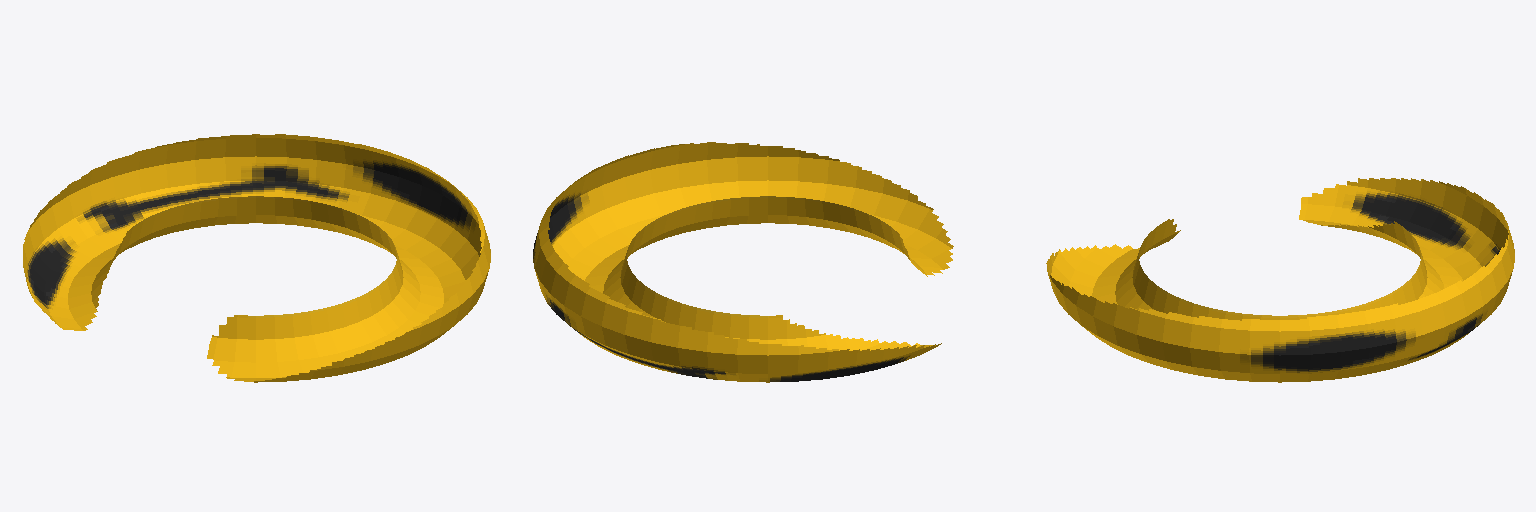
3 renders of one model, left to right at view 1: azimuth 30°, elevation 25°; view 2: azimuth 150°, elevation 25°; view 3: azimuth 270°, elevation 25°, orthographic.
Visible parts, largest first — view 1: Torus; view 2: Torus; view 3: Torus.
Part boxes in pixels (x1,y1,x2,y2): Torus: (23,134,490,382); Torus: (533,142,953,382); Torus: (1046,178,1514,382).
Size of the model in its own units: 2.5 by 0.5 by 2.5.
Materials: 1 (1 with a texture image).